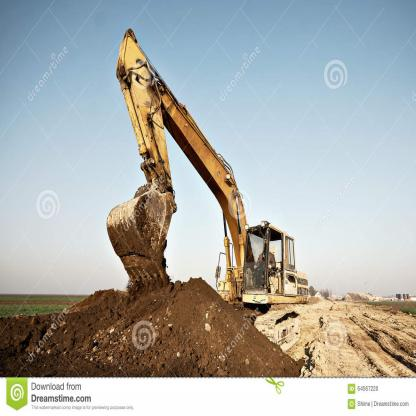excavator: (96, 25, 316, 363)
